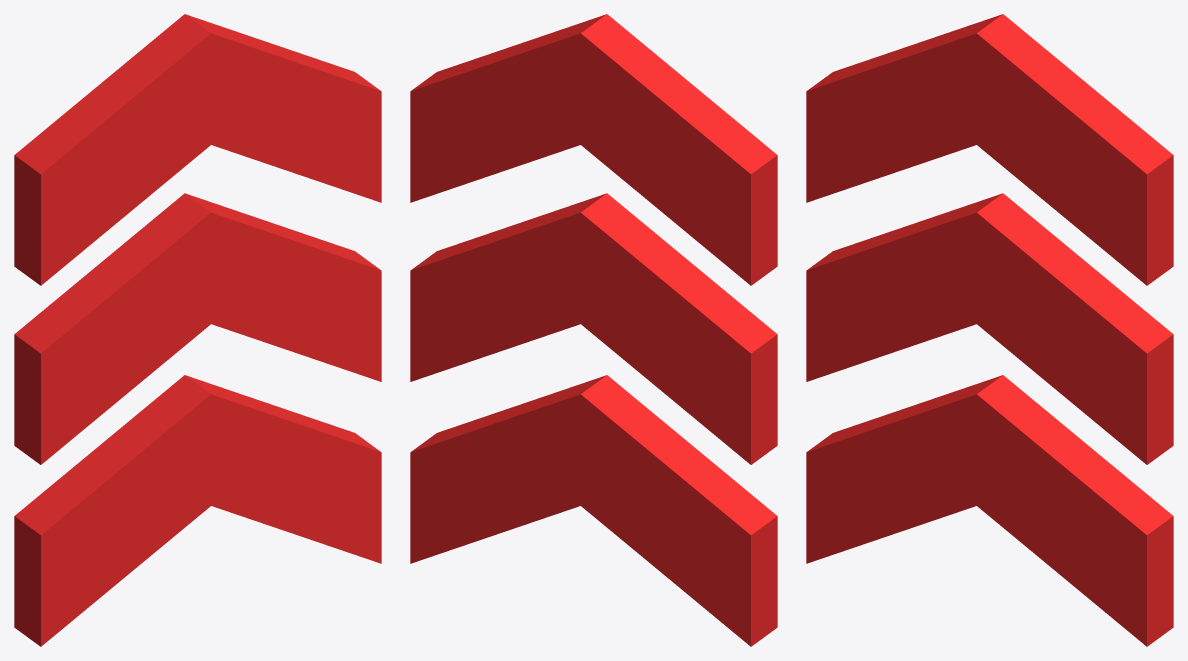
File: SM_Arrow_02.fbx
3 renders of one model, left to right at view 1: azimuth 30°, elevation 25°; view 2: azimuth 150°, elevation 25°; view 3: azimuth 330°, elevation 25°, orthographic.
Visible parts, largest first — view 1: polySurface47; view 2: polySurface47; view 3: polySurface47.
Part boxes in pixels (<box>): polySurface47: <box>14,14,381,646</box>; polySurface47: <box>410,14,777,646</box>; polySurface47: <box>806,14,1173,646</box>.
Size of the model in its own units: 42.39 by 68.03 by 5.7.
1 material, 1 textured.
